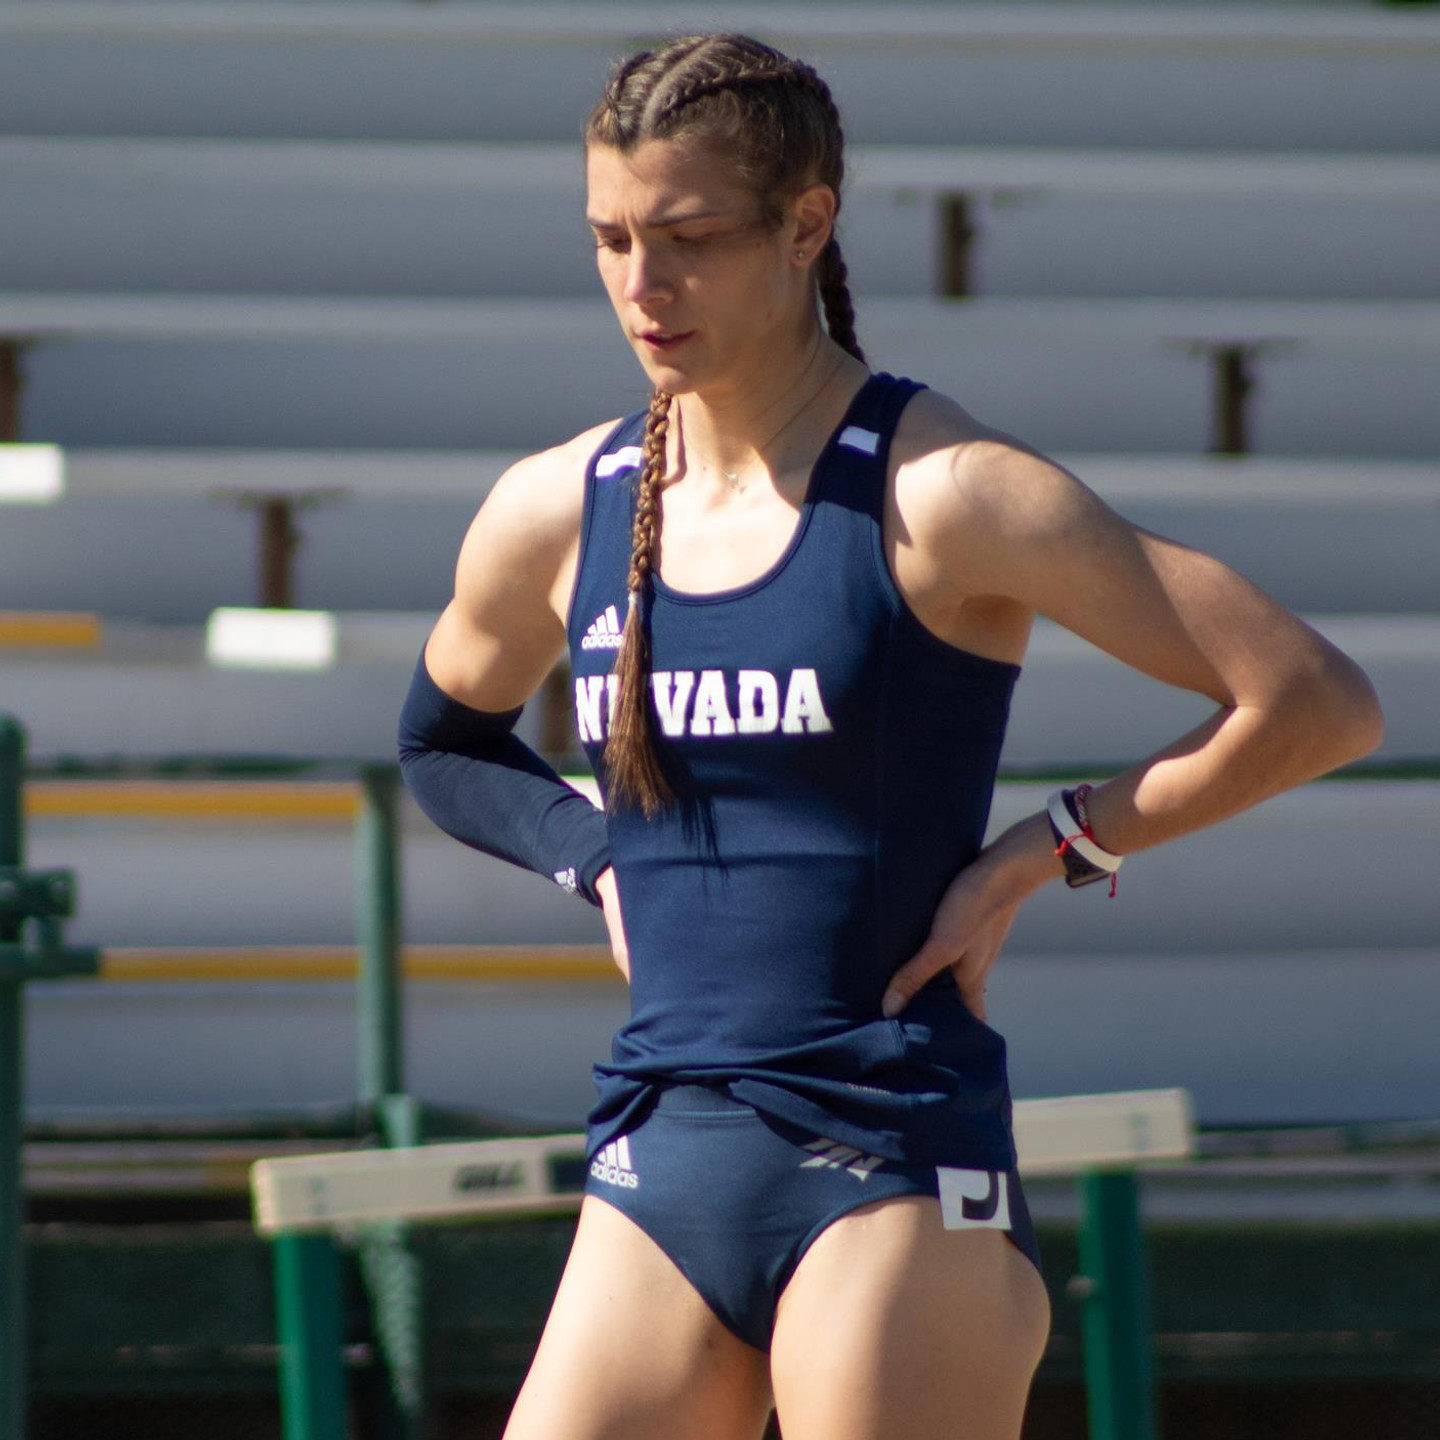runner: (392, 40, 1390, 1440)
